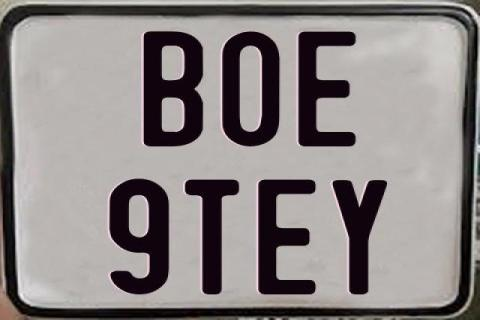0: (108, 178, 174, 298), (222, 29, 282, 145)
B: (144, 31, 206, 147)
E: (258, 178, 319, 296), (297, 31, 355, 148)
T: (184, 178, 239, 296)
Y: (329, 180, 384, 294)
